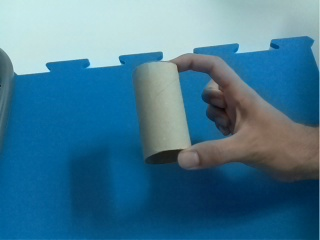rollo papel: (131, 60, 194, 165)
